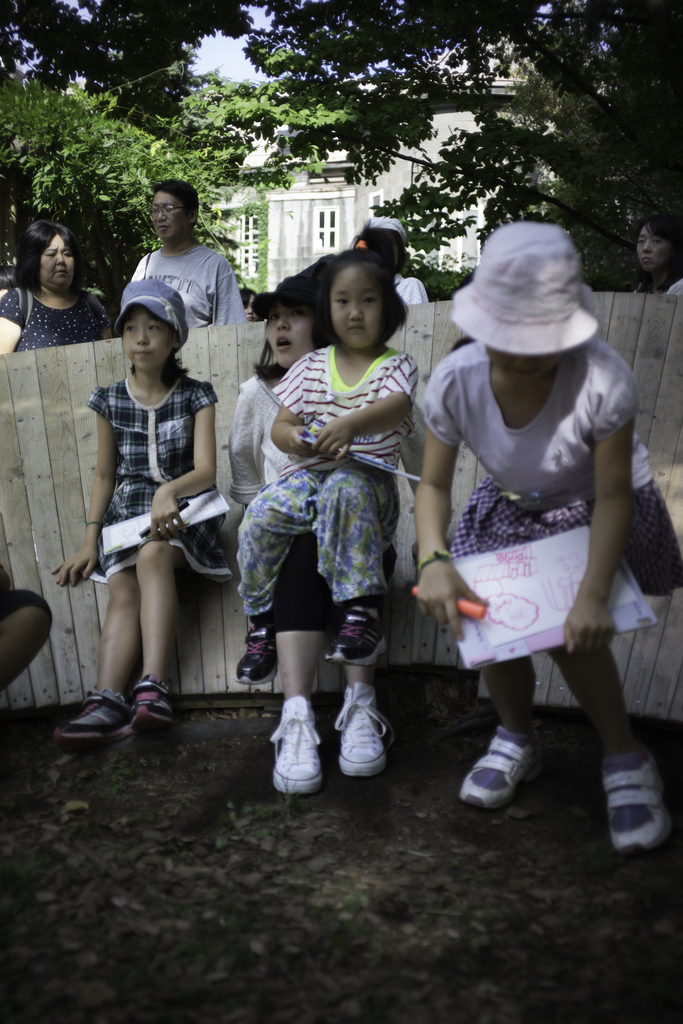Human_hand: (419, 557, 490, 630), (559, 596, 617, 657), (145, 484, 190, 540), (52, 545, 101, 589), (311, 415, 355, 463), (285, 424, 316, 460)
